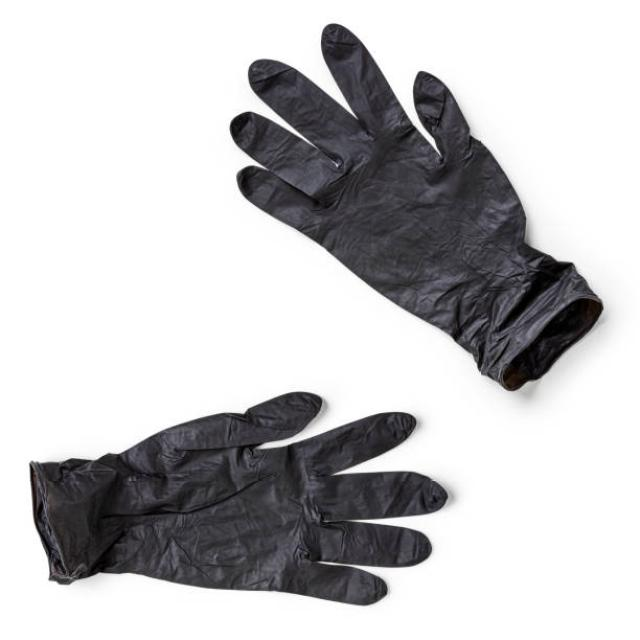Gloves: (194, 0, 621, 404), (1, 381, 450, 616)
